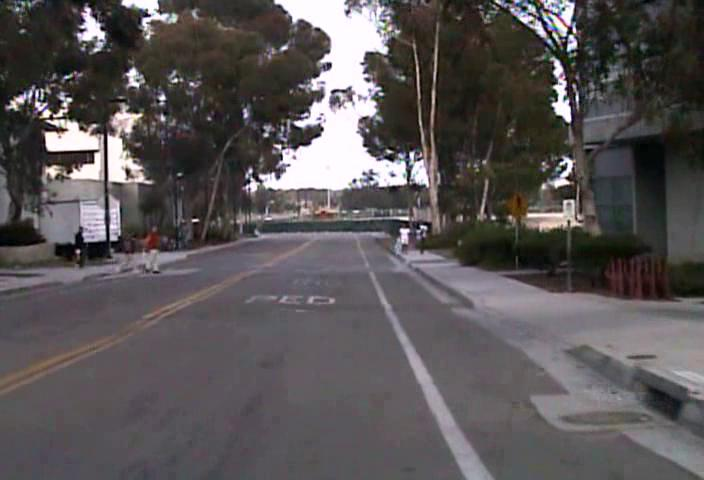pedestrianCrossing: (504, 188, 530, 218)
